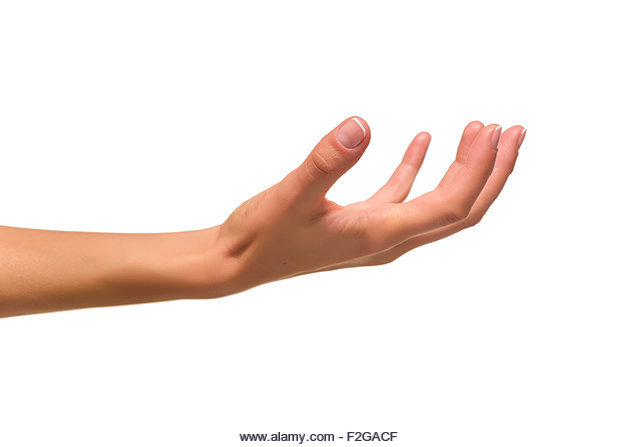hand: (192, 108, 556, 304)
